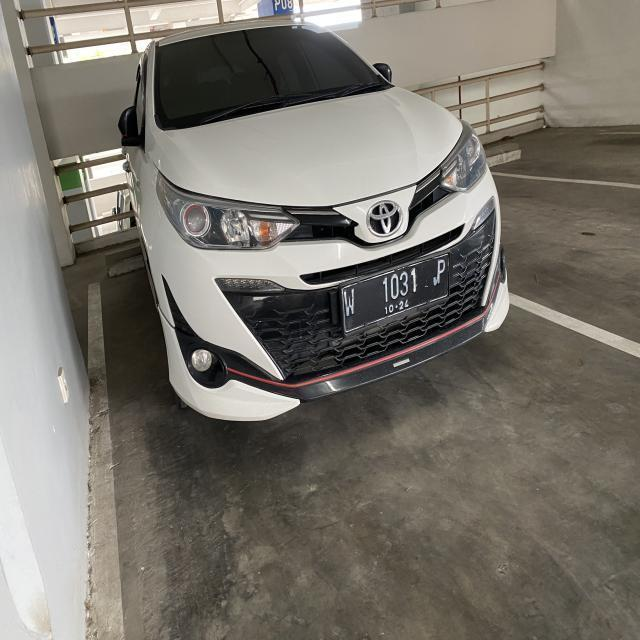0: (391, 272, 399, 300)
1: (411, 264, 419, 294), (382, 275, 388, 306)
3: (401, 270, 410, 296)
P: (433, 260, 445, 287)
W: (342, 290, 358, 318)
